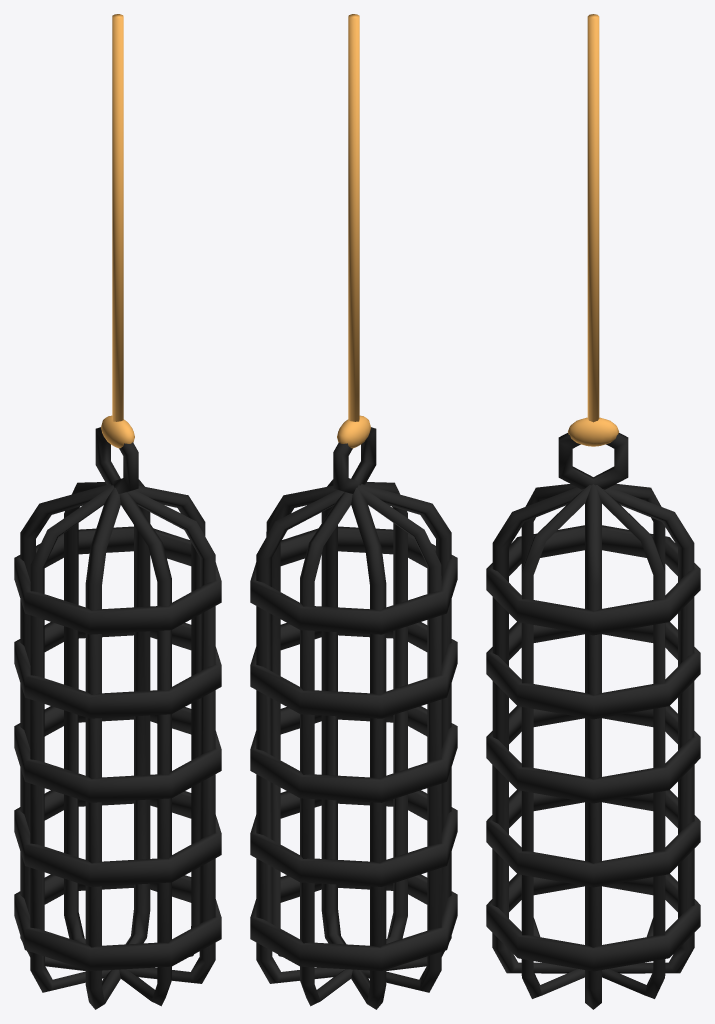
File: TortureCage.fbx
The picture shows the model from 3 angles, left to right: view 1: azimuth 30°, elevation 25°; view 2: azimuth 150°, elevation 25°; view 3: azimuth 270°, elevation 25°; orthographic projection.
Visible parts, largest first — view 1: torture-cage, Sphere.001, Sphere; view 2: torture-cage, Sphere.001, Sphere; view 3: torture-cage, Sphere.001, Sphere.
Part boxes in pixels (x1=…): torture-cage: x1=14, y1=427, x2=221, y2=1009; Sphere.001: x1=112, y1=14, x2=123, y2=421; Sphere: x1=101, y1=415, x2=134, y2=448; torture-cage: x1=250, y1=427, x2=457, y2=1009; Sphere.001: x1=348, y1=14, x2=359, y2=421; Sphere: x1=337, y1=415, x2=370, y2=448; torture-cage: x1=486, y1=433, x2=700, y2=1009; Sphere.001: x1=587, y1=14, x2=599, y2=422; Sphere: x1=568, y1=417, x2=618, y2=446.
Size of the model in its own units: 92.58 by 456 by 92.58.
1 material, 1 textured.
